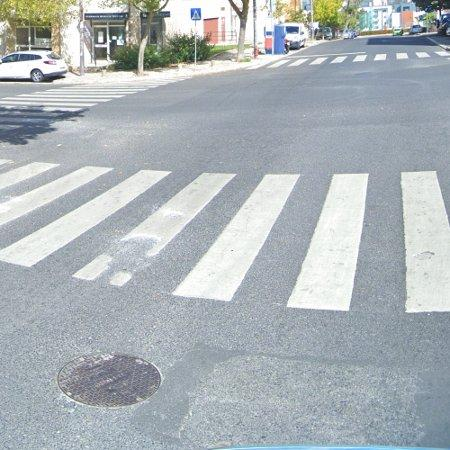crosswalks: (0, 156, 450, 315)
